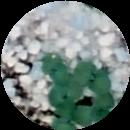Basil: (74, 62, 108, 92), (47, 83, 82, 106), (59, 105, 94, 127), (46, 54, 69, 81), (97, 92, 116, 119)
